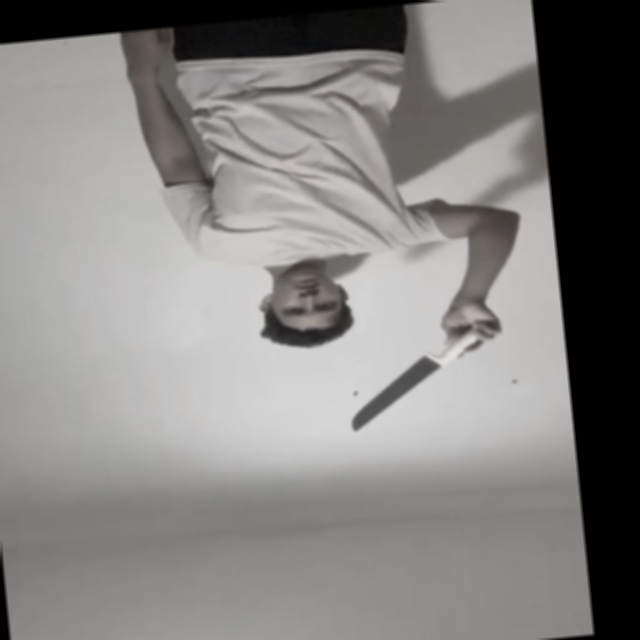Sharp-Object: (344, 360, 443, 434)
